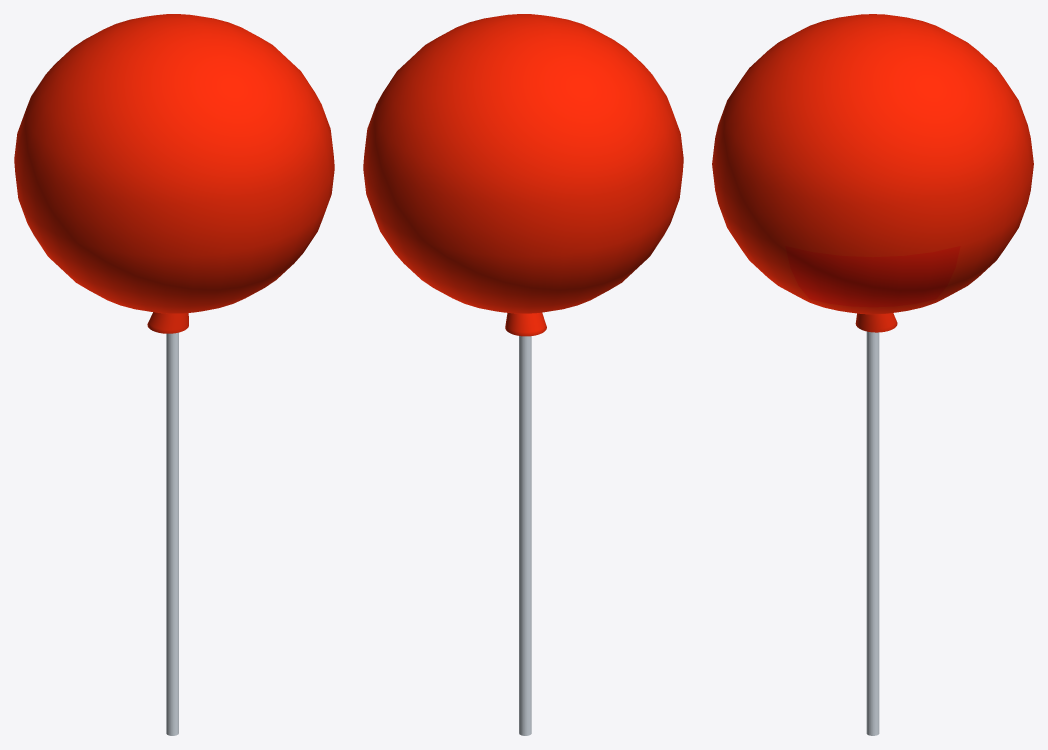
File: balloon.glb
3 views of the same model, side by side, from view 1: azimuth 30°, elevation 25°; view 2: azimuth 150°, elevation 25°; view 3: azimuth 270°, elevation 25° (orthographic).
Parts seen in each view (by area): view 1: Cylinder.008_19; view 2: Cylinder.008_19; view 3: Cylinder.008_19.
Boxes of the visible parts, box(x1,y1,x2,y2) form: Cylinder.008_19: box(14, 14, 334, 735); Cylinder.008_19: box(363, 14, 683, 735); Cylinder.008_19: box(712, 14, 1033, 735).
Bounding box in the file's own units: 0.148 × 0.3572 × 0.148.
